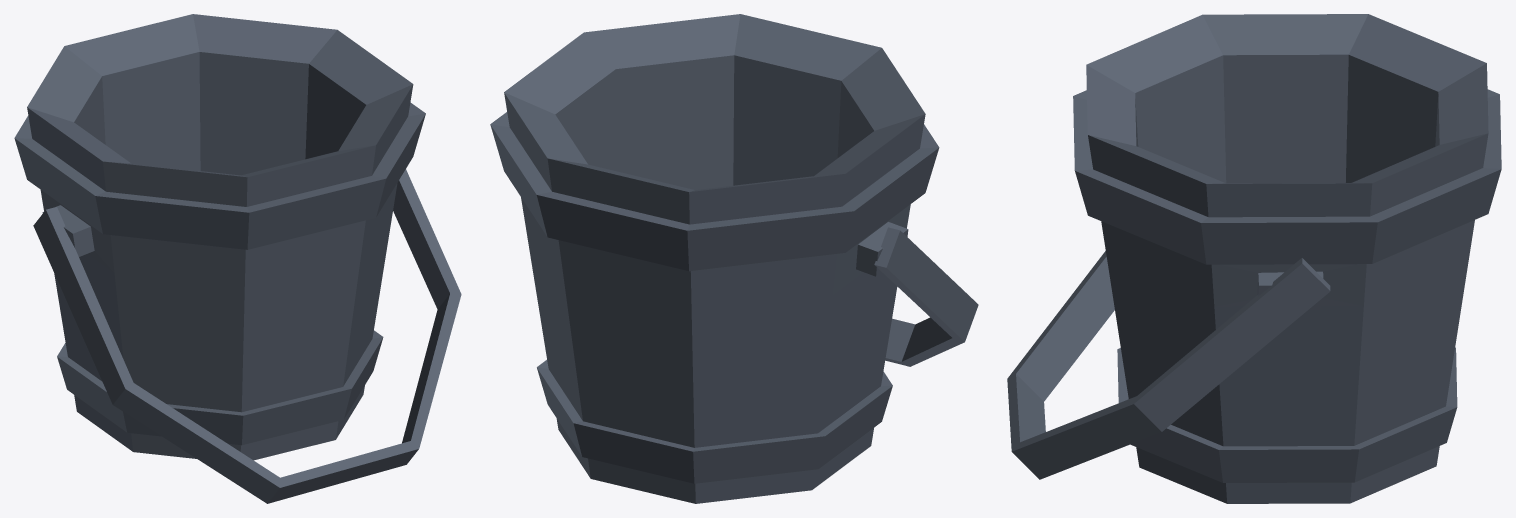
Rendered from bucket.glb.
3 views of the same model, side by side, from view 1: azimuth 30°, elevation 25°; view 2: azimuth 150°, elevation 25°; view 3: azimuth 270°, elevation 25° (orthographic). The views are drawn at different scales.
Parts seen in each view (by area): view 1: bucket; view 2: bucket; view 3: bucket.
Boxes of the visible parts, x1,y1,x2,y2 form: bucket: (14,14,461,503); bucket: (490,14,978,503); bucket: (1007,14,1501,503).
Size of the model in its own units: 0.4665 by 0.4 by 0.5214.
